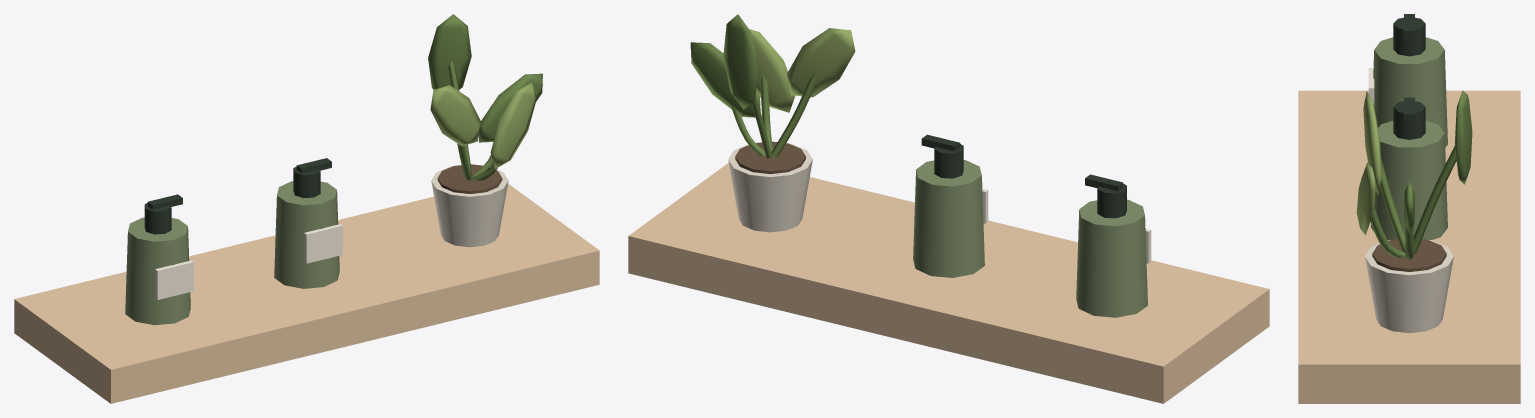
Rendered from bathroom_ref_toilet_shelf.glb.
3 renders of one model, left to right at view 1: azimuth 30°, elevation 25°; view 2: azimuth 150°, elevation 25°; view 3: azimuth 270°, elevation 25°, orthographic. The views are drawn at different scales.
Bounding box in the file's own units: 1.05 × 0.4857 × 0.36.
